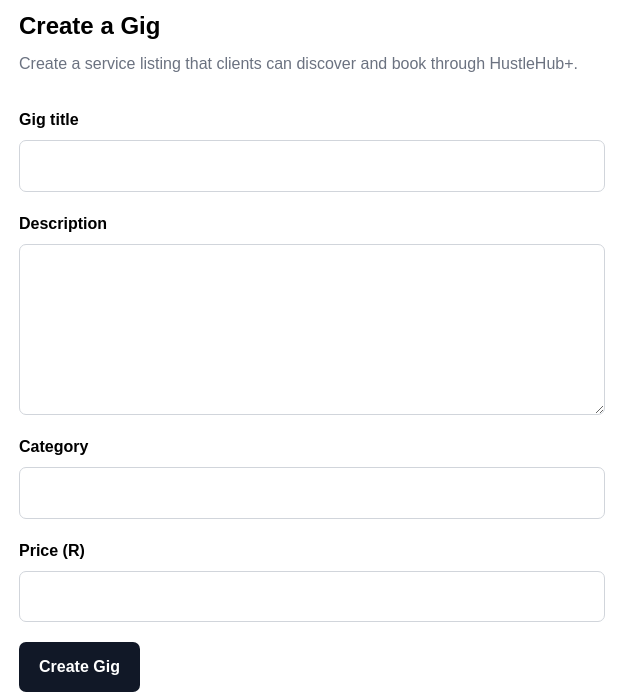
Test: CreateGig › rejects a description shorter than 10 characters
The width and height of the screenshot is (625, 696).
In the field labelled "Gig title": point(312, 166) [19, 140, 605, 192], type "Logo Design"
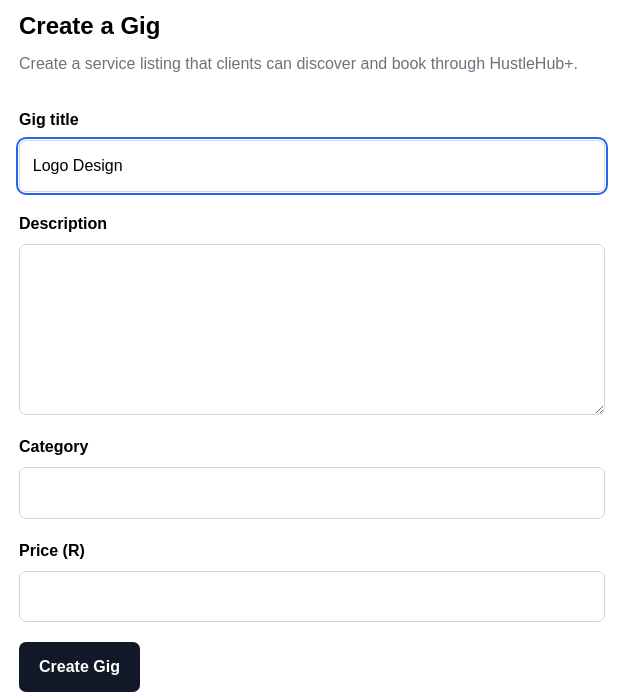
In the text box labelled "Description": point(312, 329) [19, 244, 605, 415], type "Short"
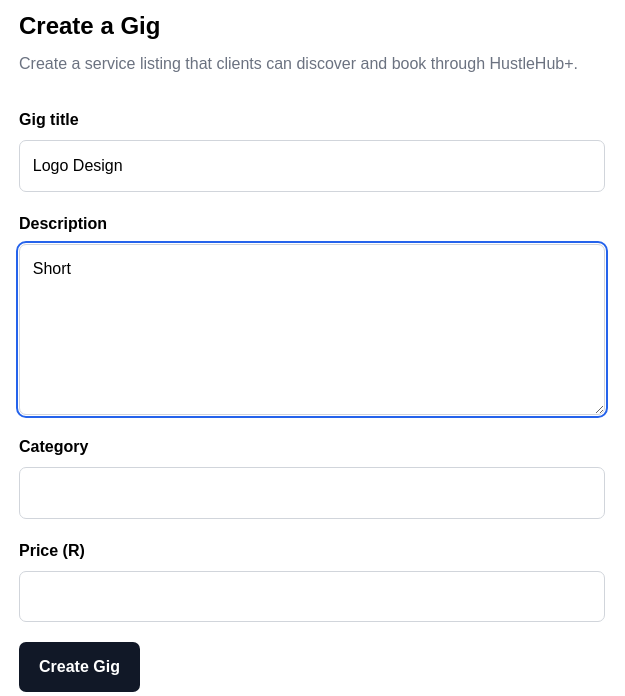
Click the button "Create Gig": point(79, 667) [19, 642, 140, 692]
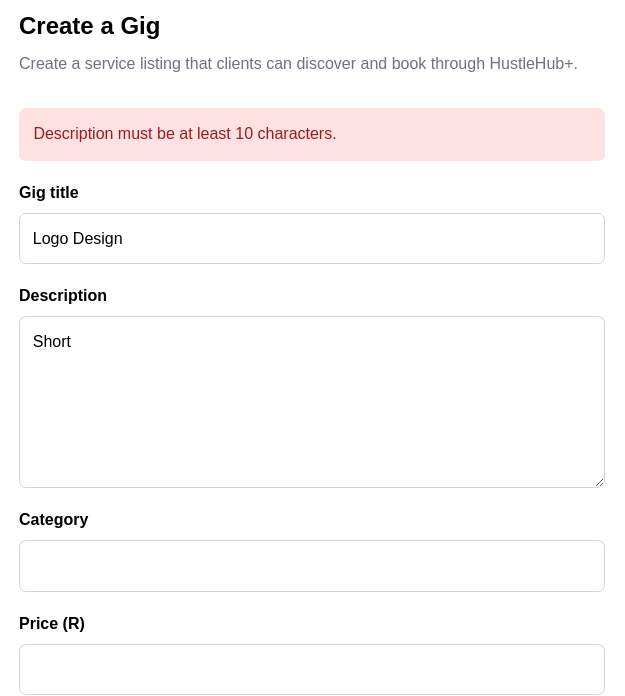
Check: the message reads "Description must be at least 10 characters.", box [33, 125, 337, 142]
